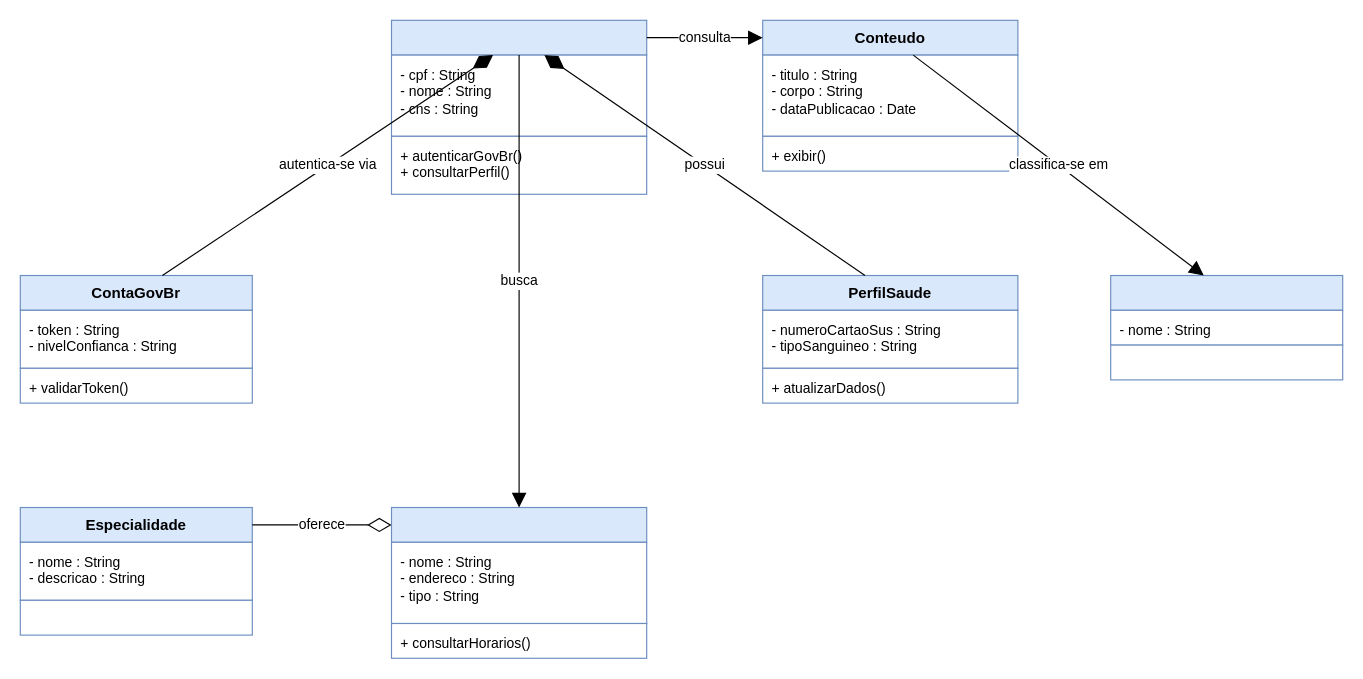
This 1363x679 diagram has some shape labels left out. Each missing label, with the centre of its shape:
Categoria: (x=1226, y=292)
UnidadeDeSaude: (x=518, y=524)
Usuario: (x=518, y=37)
